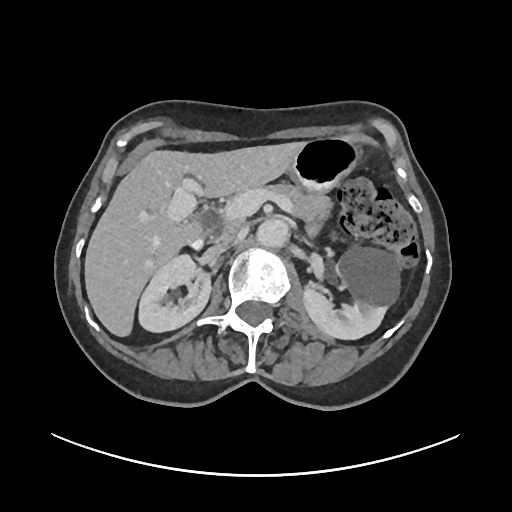Lesion: (334, 246, 404, 308)
